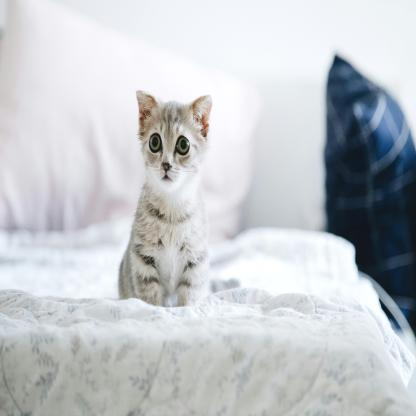cat: (115, 87, 216, 308)
